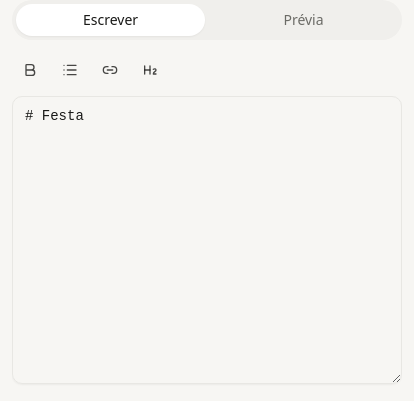
Test case: EditorDeMarkdown › no celular, as abas alternam entre escrever e ver a prévia
Click the tab "Prévia".
click(304, 20)  # box [209,4,398,36]
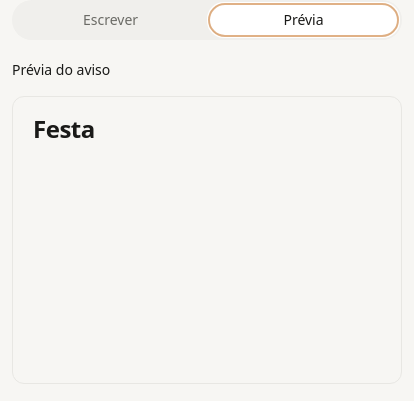
Expected: the heading "Festa" is shown, [33,112,95,145]
